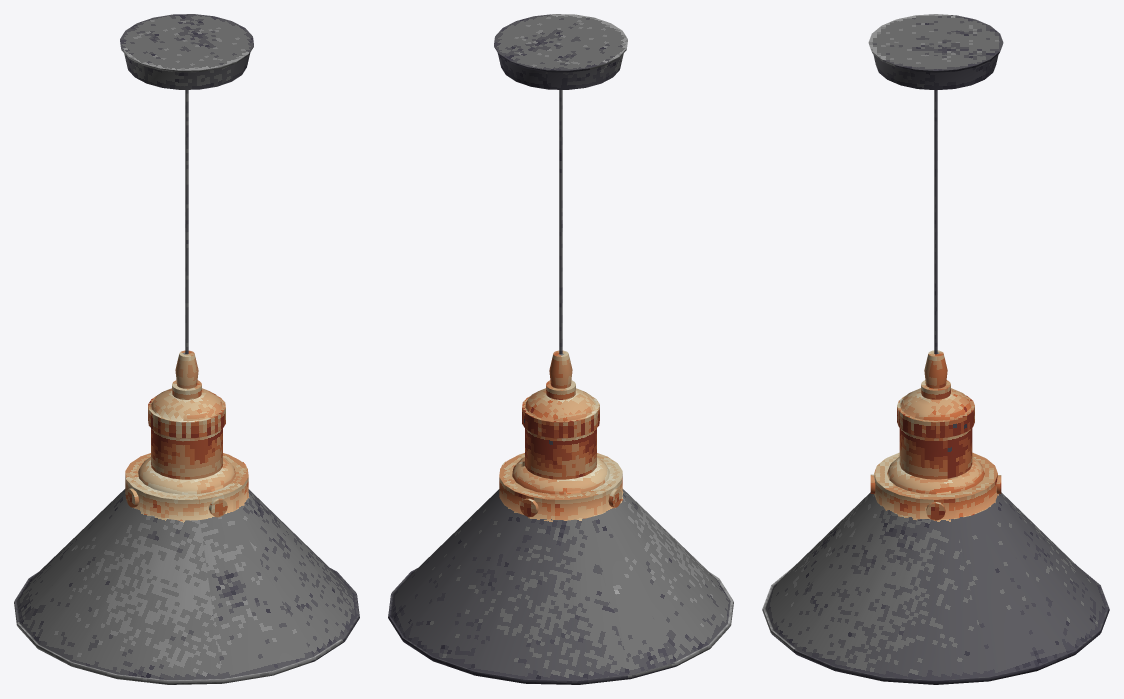
Rendered from lamp_pendant.glb.
The picture shows the model from 3 angles, left to right: view 1: azimuth 30°, elevation 25°; view 2: azimuth 150°, elevation 25°; view 3: azimuth 270°, elevation 25°; orthographic projection.
Parts seen in each view (by area): view 1: mesh; view 2: mesh; view 3: mesh.
Part boxes in pixels (box(x1,y1,x2,y2)): mesh: box(14, 14, 359, 684); mesh: box(388, 14, 733, 684); mesh: box(762, 14, 1109, 684).
Size of the model in its own units: 0.2657 by 0.5 by 0.2657.
1 material, 1 textured.
